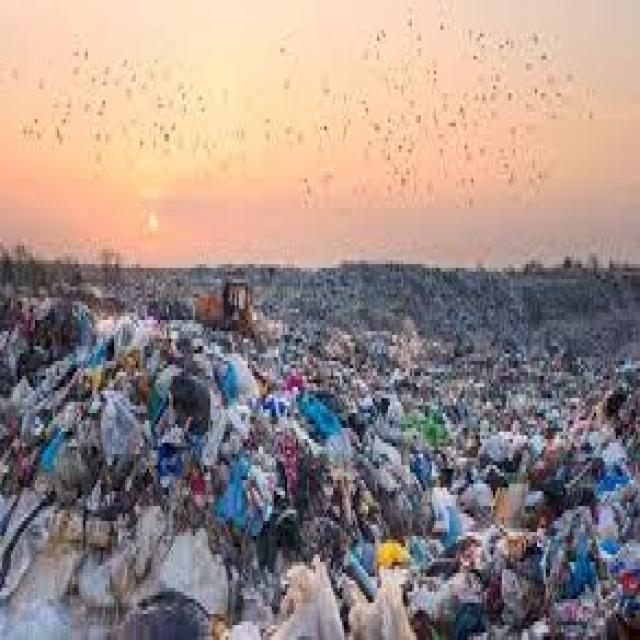heap: (30, 343, 611, 640)
